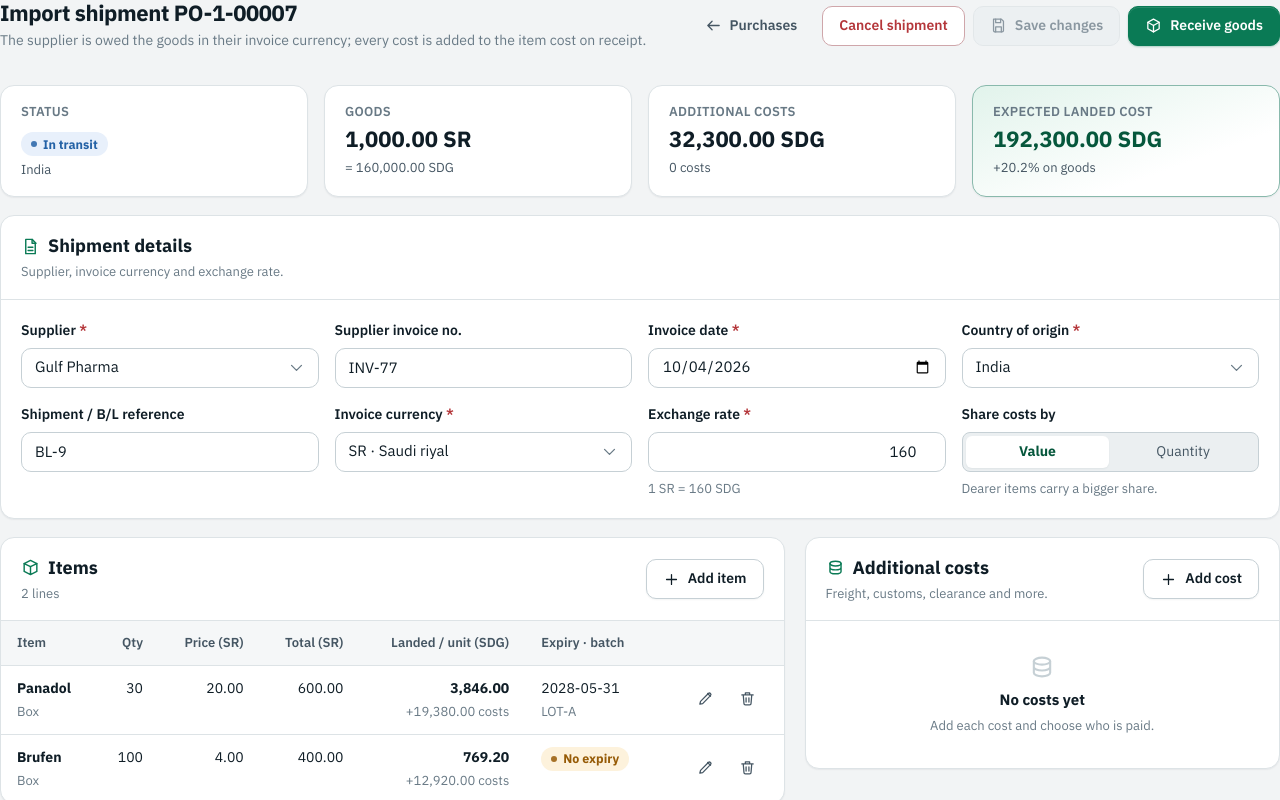
Test: ImportShipmentPage › asks to save changed items before the goods can be received
Expected: the text "Brufen" is shown, x1=17 y1=747 x2=62 y2=768
Click the button named "Remove" in the row of "Brufen" at (748, 767), box x1=728 y1=747 x2=768 y2=787
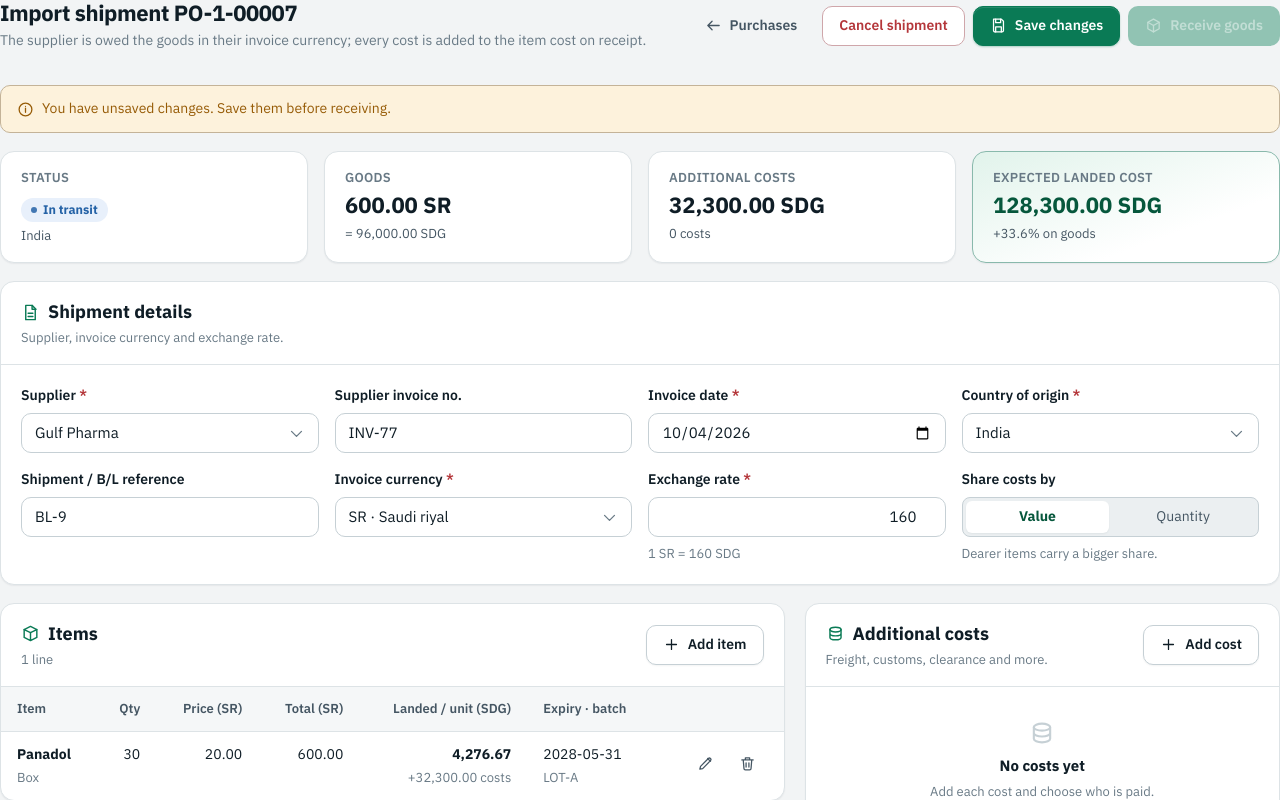
Expected: the text "You have unsaved changes. Save them before receiving." is shown, x1=0 y1=85 x2=1279 y2=133
Expected: the button "Receive goods" is disabled, x1=1128 y1=6 x2=1279 y2=46
